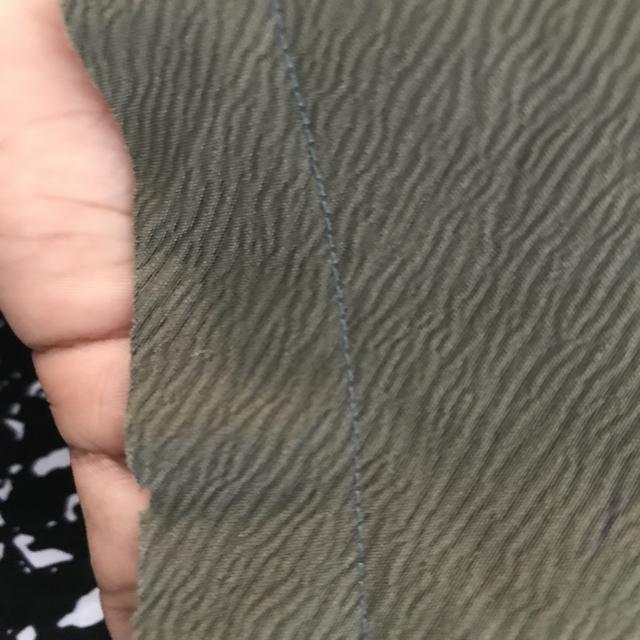good: (309, 208, 384, 369)
